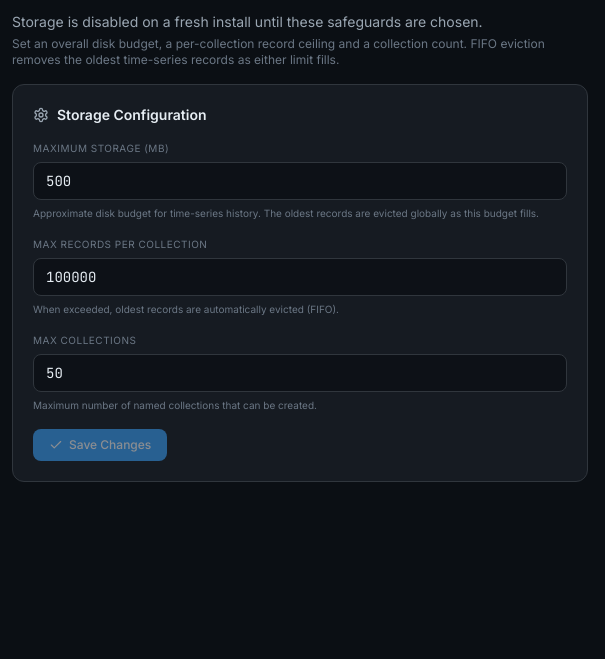
Test: SettingsPanel › dismisses the confirmation dialog on Cancel
Replace the text in the number field showing "500" below "Maximum Storage (MB)" with "800". click: [300, 181]
box: [33,162,567,200]
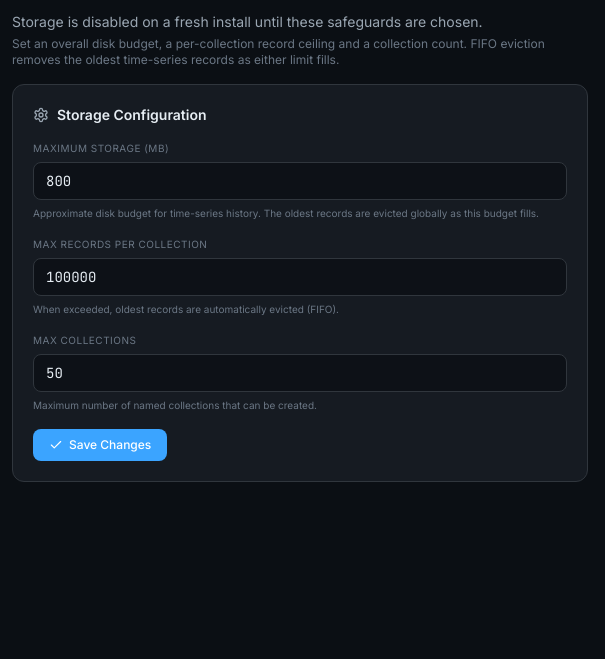
Click the button "Save Changes". click: [100, 445]
box: [33,429,167,461]
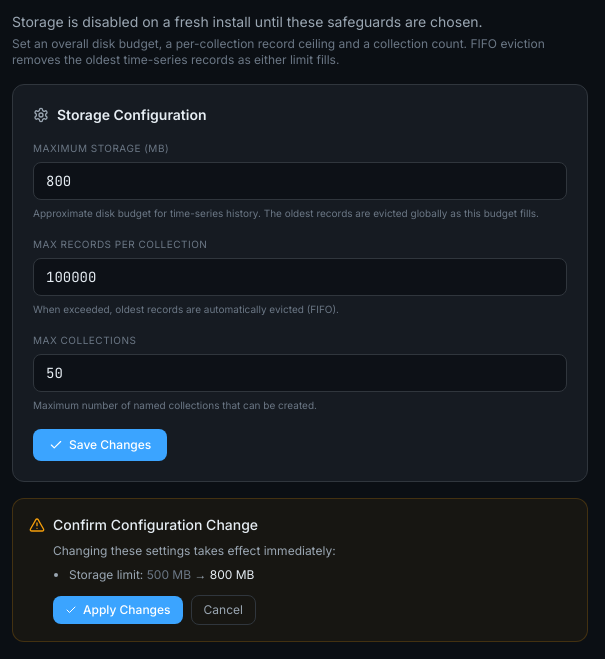
Click the button "Cancel". click: [223, 610]
box: [191,595,256,625]
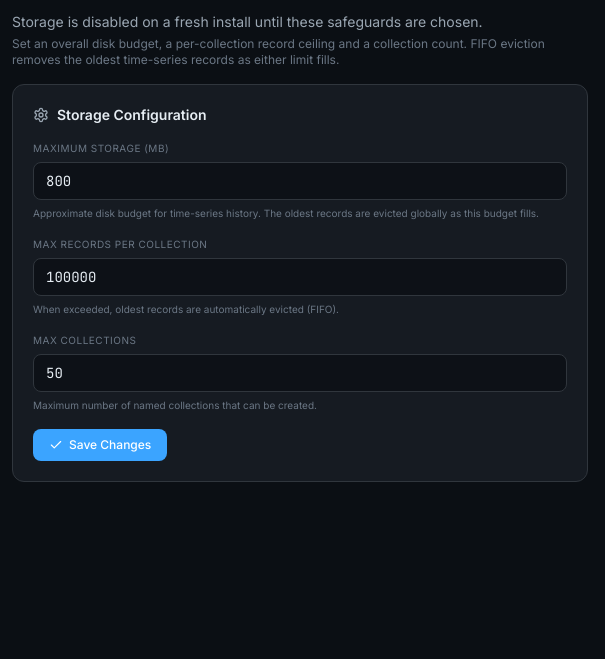
Expected: the text "Confirm Configuration Change" is gone
